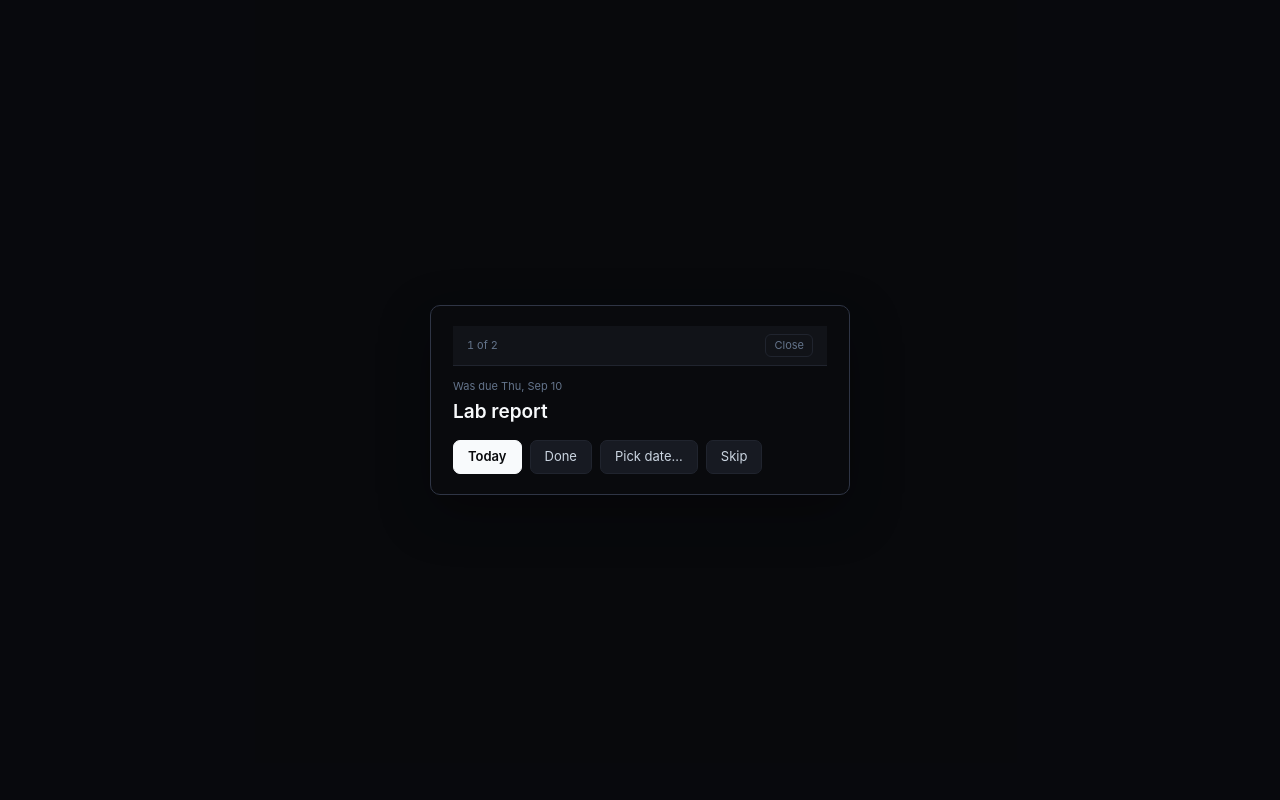
OverdueTriage sheet › skip advances without touching the server
Click the button "Skip": click(734, 457) [706,440,762,474]
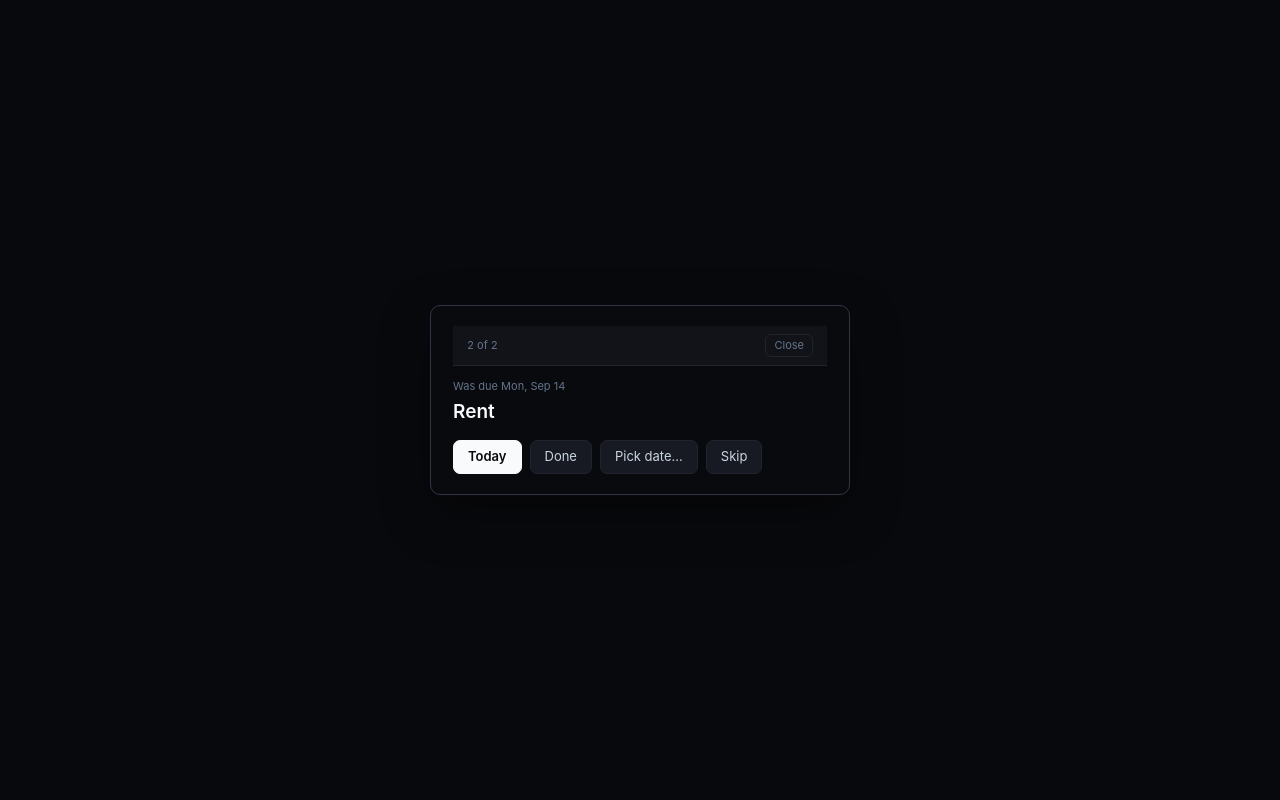
Expected: the heading "Rent" is shown, [453,400,495,423]
